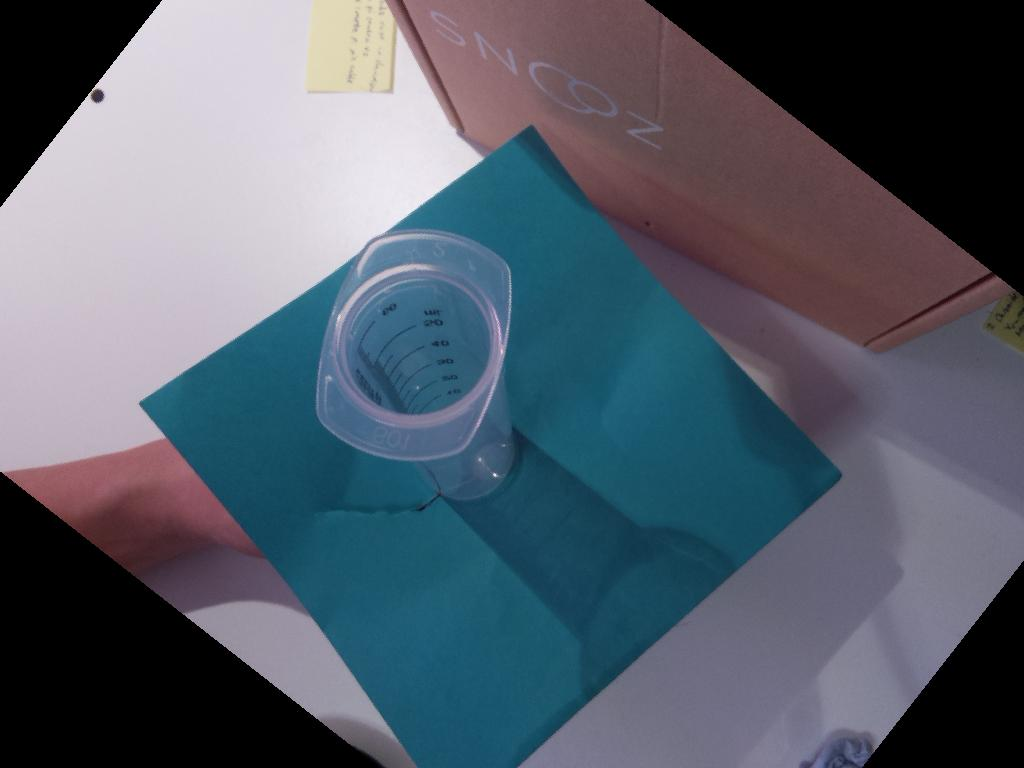clean: (317, 229, 512, 462)
